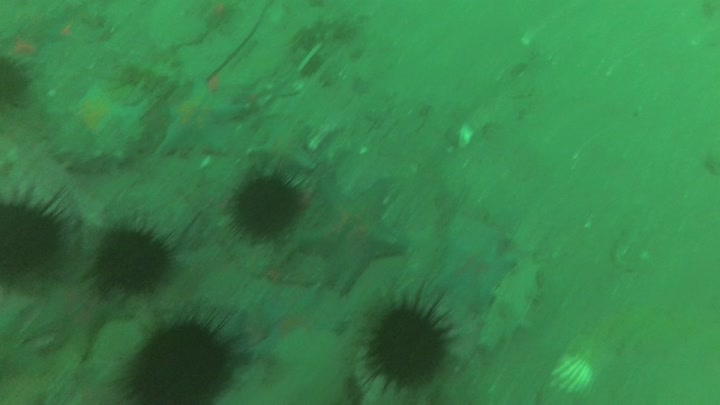echinus: (117, 302, 247, 405), (357, 277, 463, 401), (82, 217, 186, 311), (1, 187, 84, 299), (224, 159, 317, 247), (1, 48, 36, 124)
starfish: (19, 259, 137, 365), (306, 178, 413, 292), (44, 81, 154, 169), (155, 73, 252, 161), (427, 225, 521, 312), (258, 286, 346, 363), (244, 119, 323, 184), (247, 241, 305, 308)
